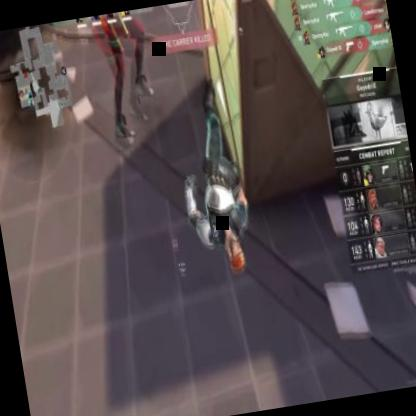enemy: (90, 8, 162, 148)
